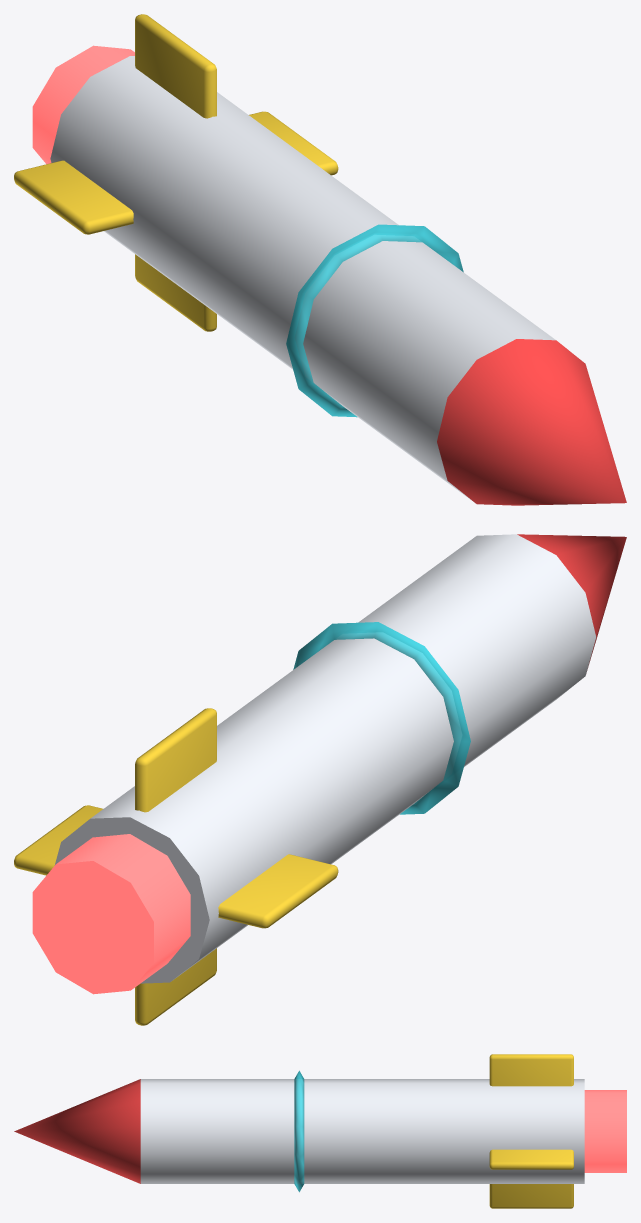
The model's file is RaptorMissile.fbx.
3 renders of one model, top to bottom at view 1: azimuth 30°, elevation 25°; view 2: azimuth 150°, elevation 25°; view 3: azimuth 270°, elevation 25°, orthographic. The views are drawn at different scales.
Visible parts, largest first — view 1: RaptorMissile; view 2: RaptorMissile; view 3: RaptorMissile.
Part boxes in pixels (left/top/right/bottom): RaptorMissile: left=14, top=14, right=626, bottom=505; RaptorMissile: left=14, top=534, right=626, bottom=1025; RaptorMissile: left=14, top=1054, right=626, bottom=1208.
Size of the model in its own units: 0.16 by 0.16 by 0.58.
